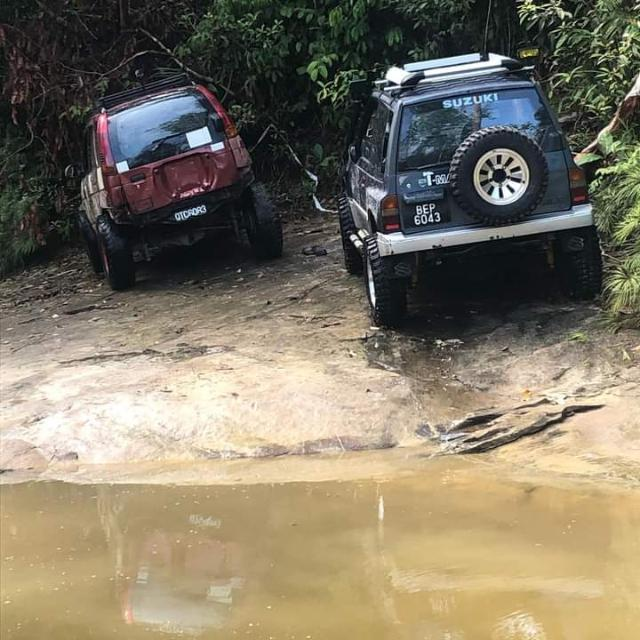License_Plate: (406, 200, 453, 233), (172, 203, 208, 223)
car: (341, 39, 618, 323), (74, 73, 294, 289)
